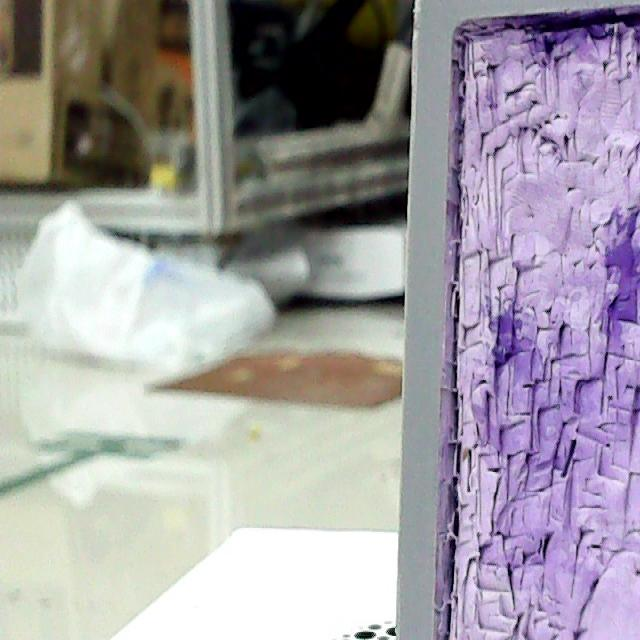block: (396, 0, 634, 627)
